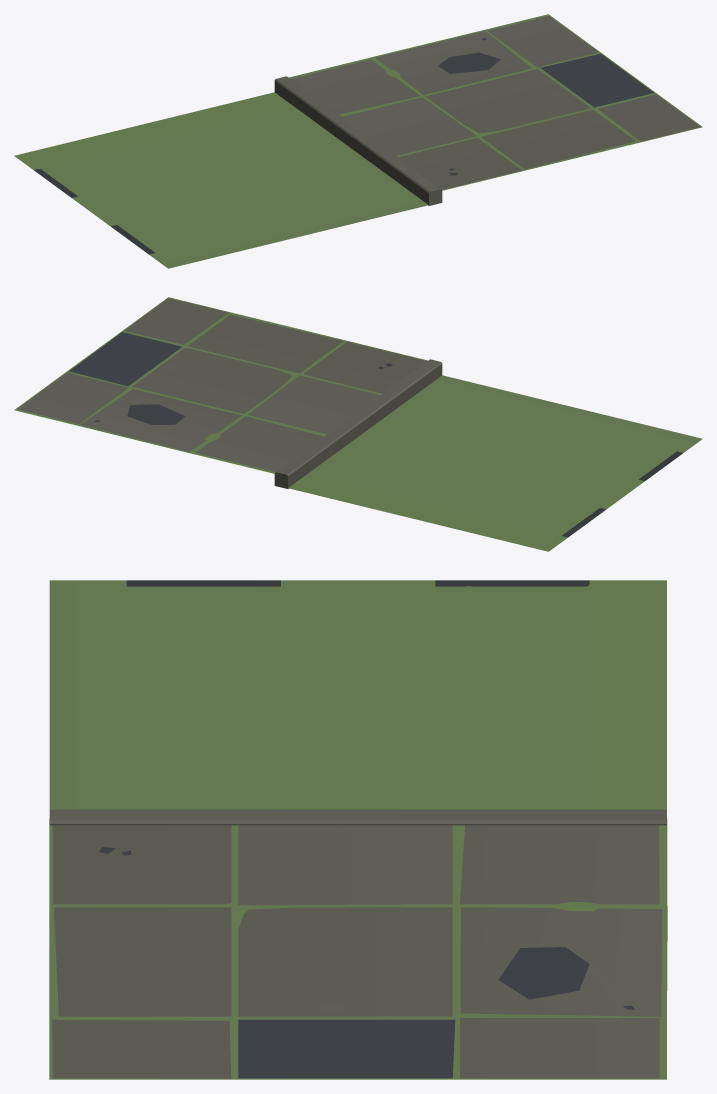
Rendered from Road_03.fbx.
3 views of the same model, one above another, from view 1: azimuth 30°, elevation 25°; view 2: azimuth 150°, elevation 25°; view 3: azimuth 270°, elevation 25° (orthographic). The views are drawn at different scales.
Parts seen in each view (by area): view 1: Road_03; view 2: Road_03; view 3: Road_03.
Part boxes in pixels (x1,y1,x2,y2): Road_03: (14, 14, 702, 268); Road_03: (14, 297, 702, 551); Road_03: (49, 580, 667, 1079).
Bounding box in the file's own units: 6 × 0.15 × 3.01.
